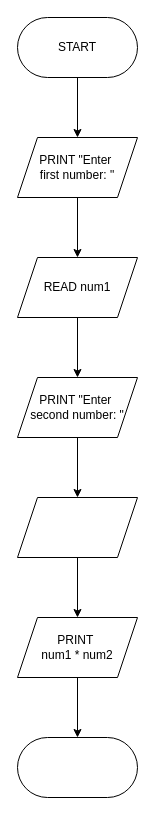
The diagram is 155 pixels wide and 815 high, and some of its shapes have lost their labels. Here are the shapes that lost their labels. From the top down, the centre of each, then its label:
At pixel 77 527: "READ num2".
At pixel 77 767: "END".
